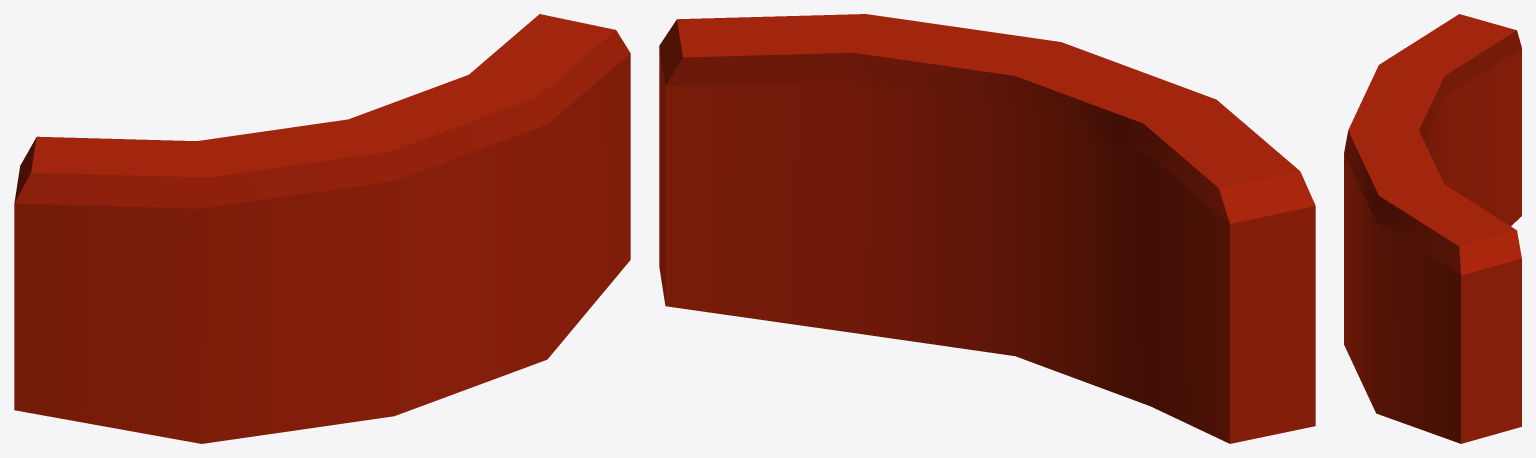
Rendered from Leg_Prop_Cooking_Apron_Bib_01_C03.fbx.
The picture shows the model from 3 angles, left to right: view 1: azimuth 30°, elevation 25°; view 2: azimuth 150°, elevation 25°; view 3: azimuth 270°, elevation 25°; orthographic projection. The views are drawn at different scales.
Visible parts, largest first — view 1: Leg_Prop_Cooking_Apron_Bib_01_C03; view 2: Leg_Prop_Cooking_Apron_Bib_01_C03; view 3: Leg_Prop_Cooking_Apron_Bib_01_C03.
Boxes of the visible parts, x1,y1,x2,y2 form: Leg_Prop_Cooking_Apron_Bib_01_C03: (14,14,630,443); Leg_Prop_Cooking_Apron_Bib_01_C03: (659,14,1315,443); Leg_Prop_Cooking_Apron_Bib_01_C03: (1344,14,1521,443).
Bounding box in the file's own units: 78.47 × 32.02 × 24.07.
